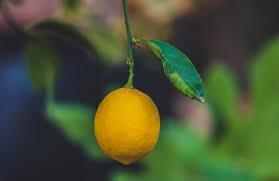lemon: (94, 88, 160, 165)
